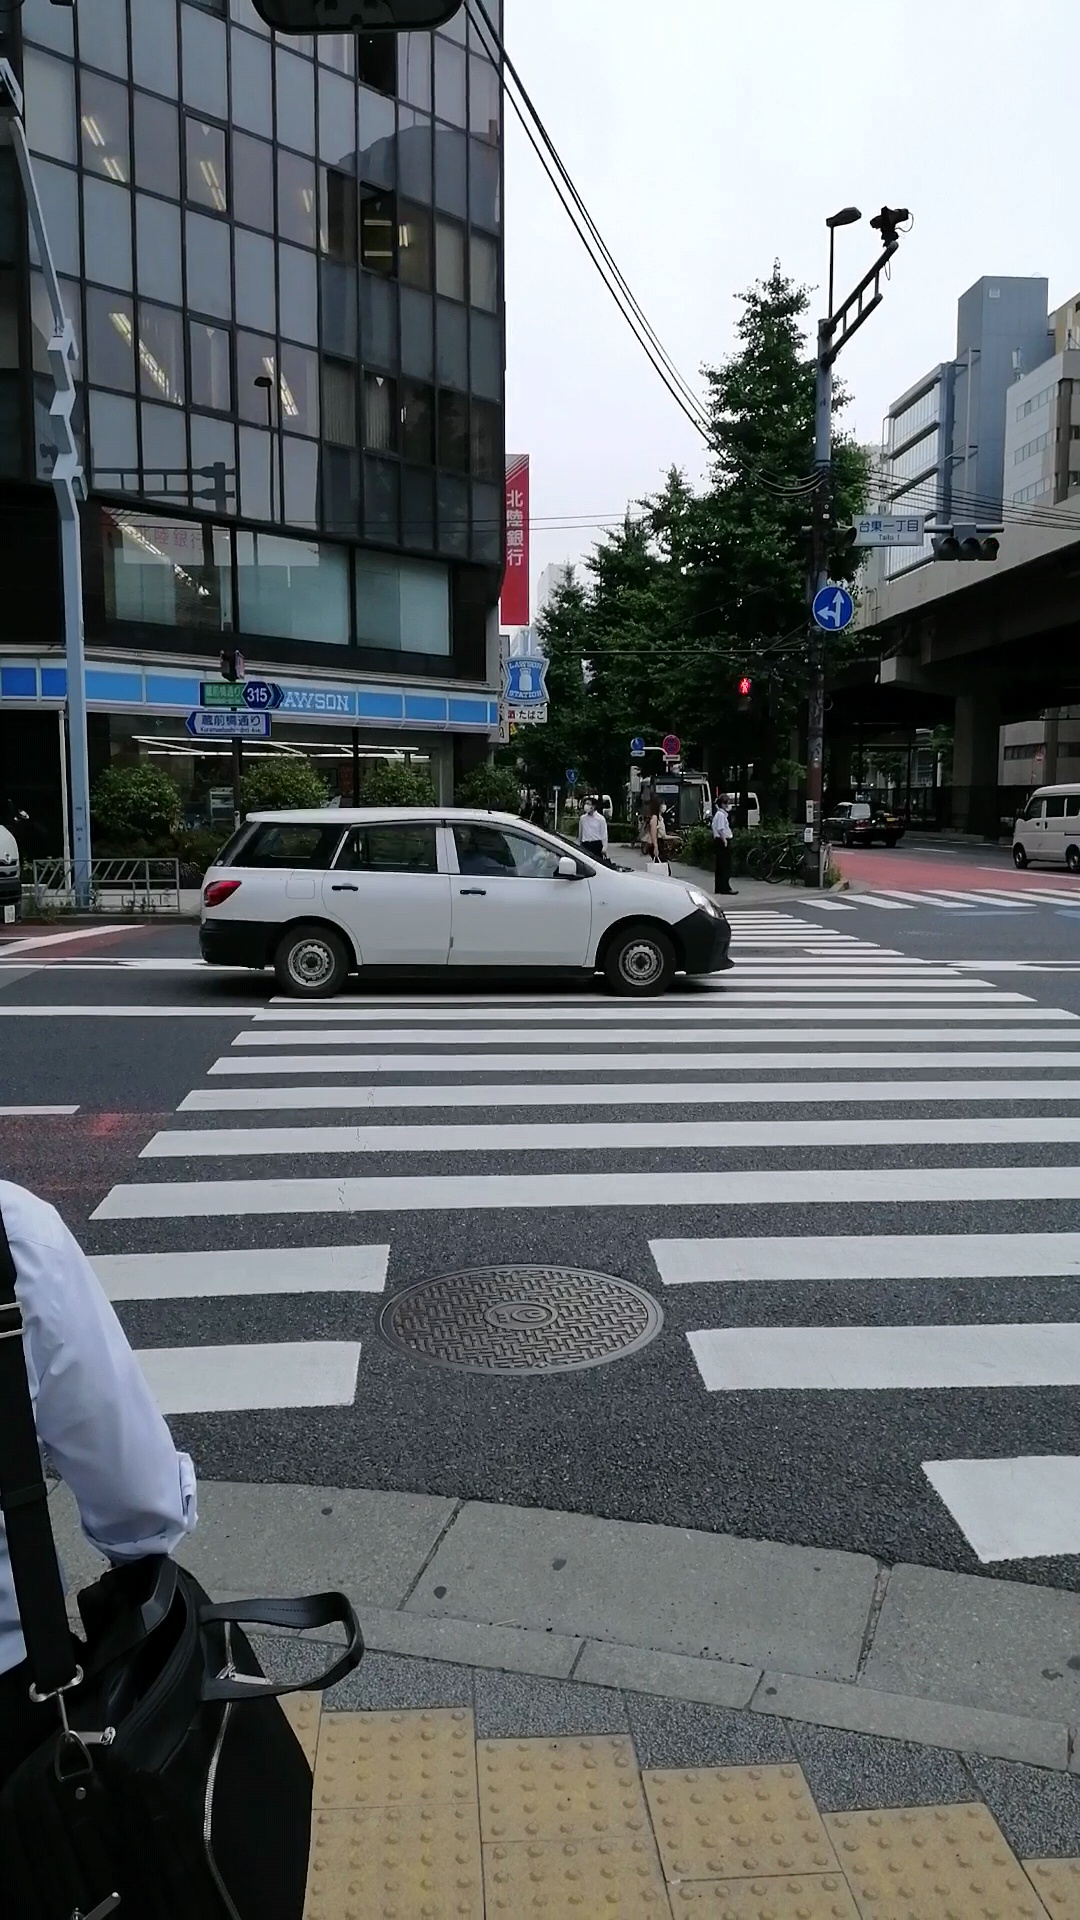red: (733, 674, 757, 720)
